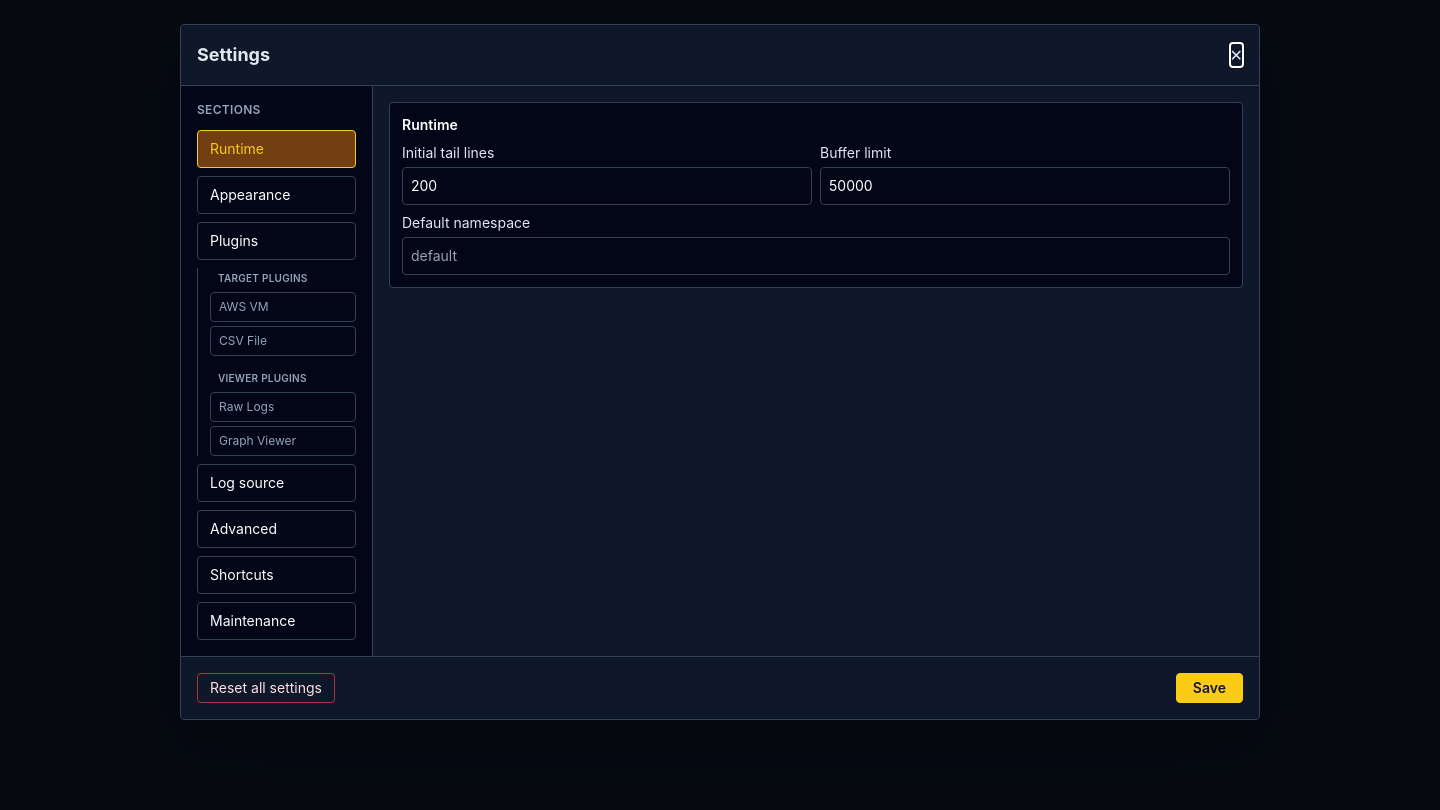
Scenario: SettingsModal log policy selection › hides container inputs from the normal settings page
Click the button "Advanced": (276, 529) [197, 510, 356, 548]
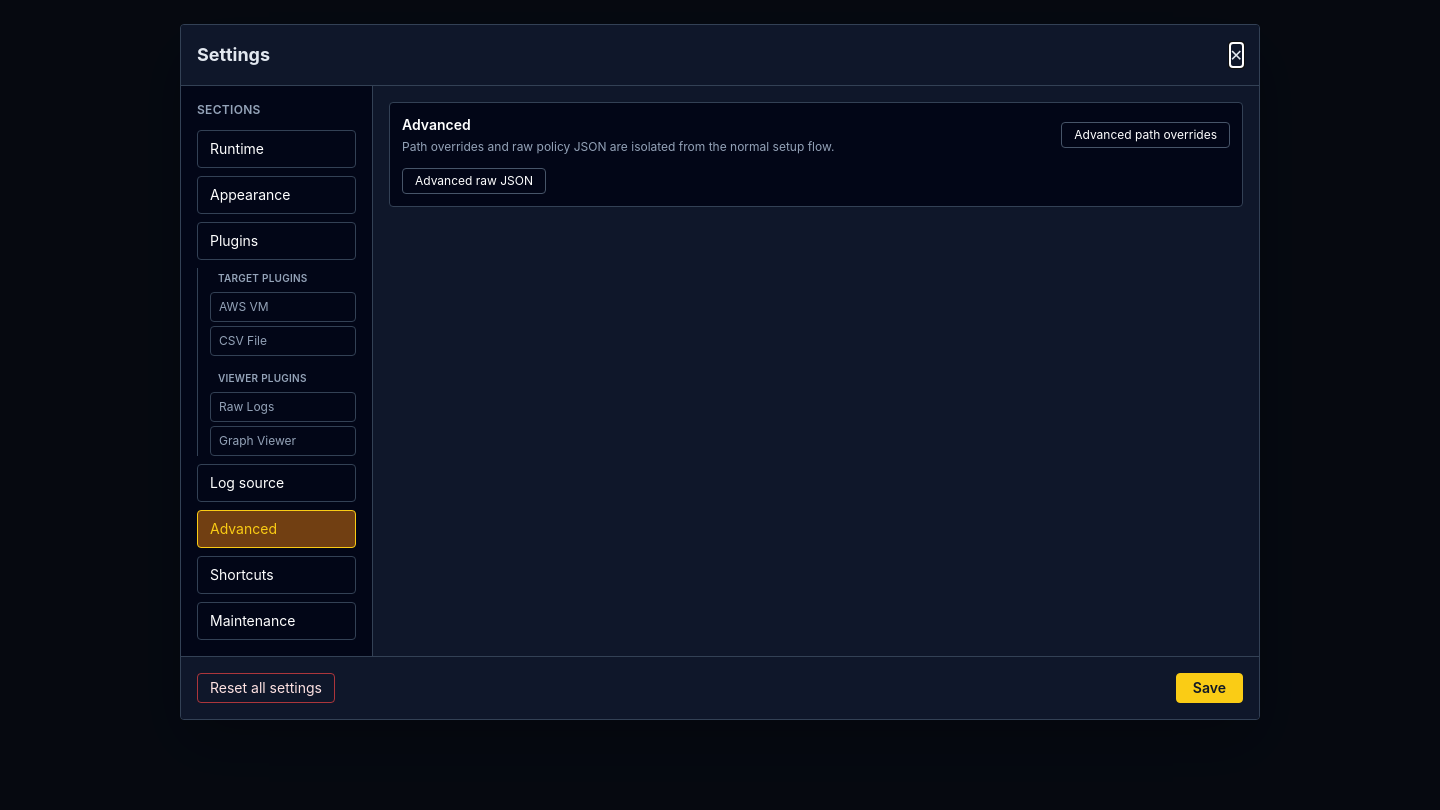
Click the button "Advanced path overrides": (1146, 135) [1061, 122, 1230, 148]
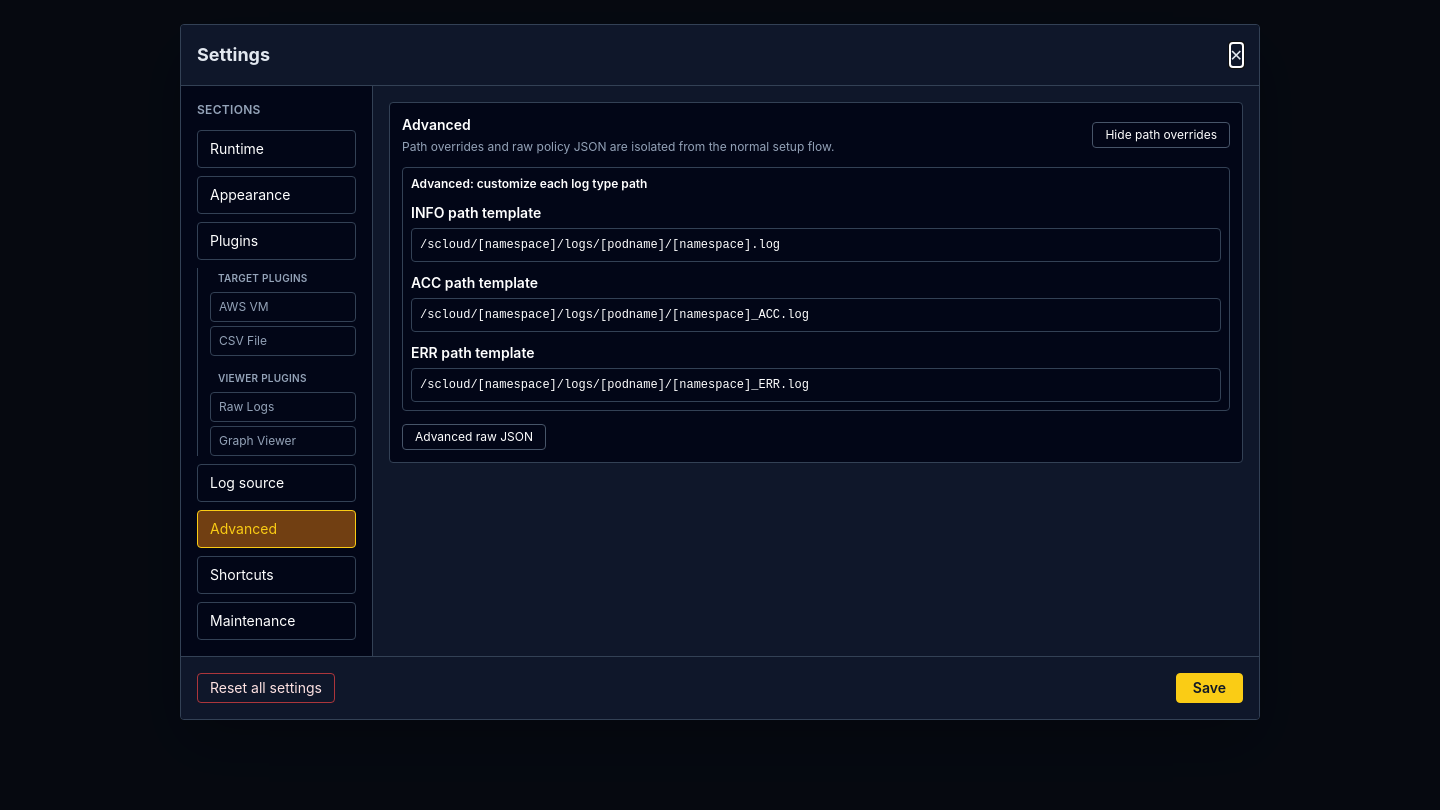
expect the field labelled "INFO path template" is shown: met, box [411, 228, 1221, 262]
expect the field labelled "ACC path template" is shown: met, box [411, 298, 1221, 332]
expect the field labelled "ERR path template" is shown: met, box [411, 368, 1221, 402]
